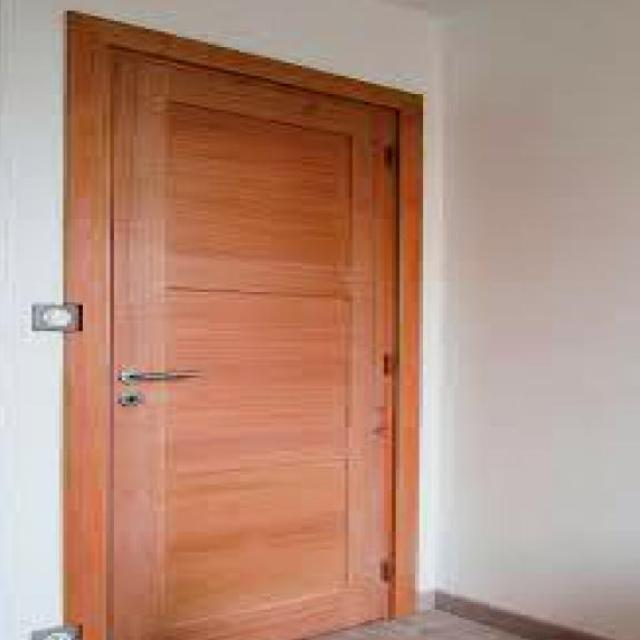door: (62, 11, 418, 638)
